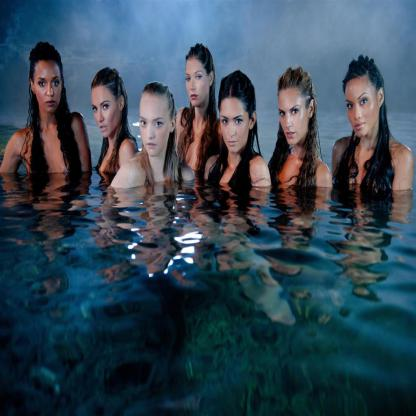face: (141, 94, 172, 156), (347, 85, 377, 137), (280, 93, 308, 145), (222, 101, 249, 153), (91, 92, 121, 137), (34, 67, 63, 112), (187, 61, 211, 105)
